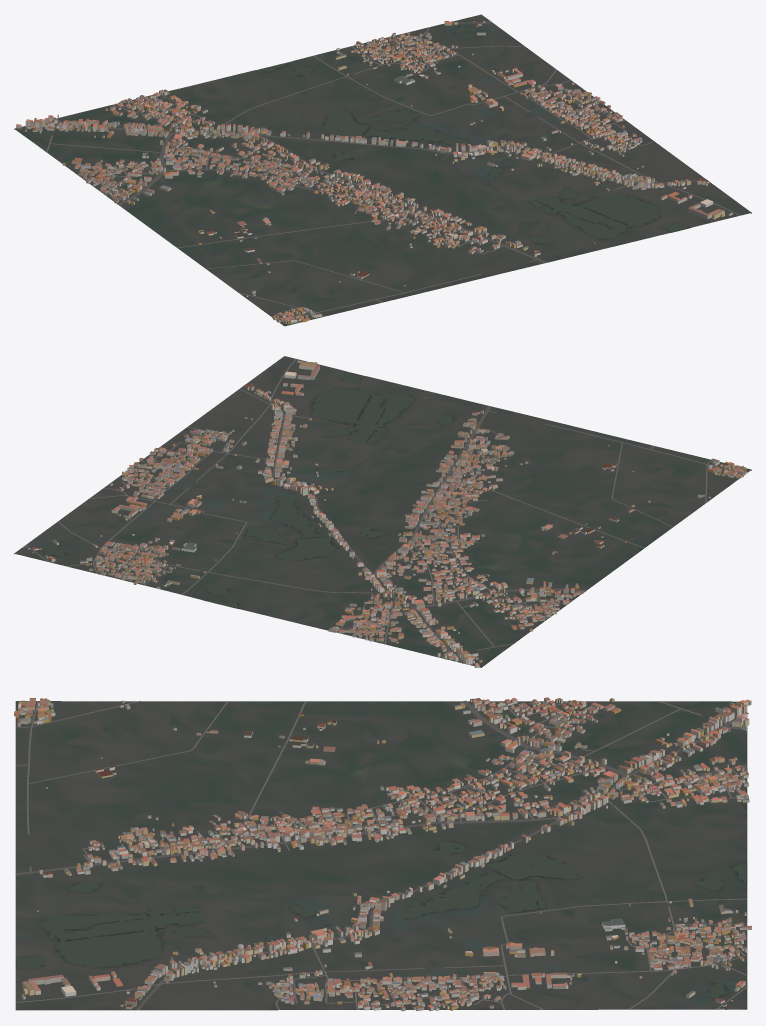
3 renders of one model, top to bottom at view 1: azimuth 30°, elevation 25°; view 2: azimuth 150°, elevation 25°; view 3: azimuth 270°, elevation 25°, orthographic. The views are drawn at different scales.
Parts seen in each view (by area): view 1: ground, buildings, water, roads; view 2: ground, buildings, water, roads; view 3: ground, buildings, water, roads.
Boxes of the visible parts, x1,y1,x2,y2 form: ground: [14, 14, 751, 326]; buildings: [16, 20, 732, 324]; water: [260, 25, 688, 244]; roads: [46, 19, 740, 322]; ground: [14, 356, 751, 667]; buildings: [26, 360, 747, 667]; water: [38, 371, 452, 607]; roads: [21, 359, 740, 663]; ground: [15, 701, 747, 1010]; buildings: [14, 697, 751, 1011]; water: [16, 841, 746, 1002]; roads: [15, 700, 748, 1010].
Bounding box in the file's own units: 1409 × 26.34 × 1414.
